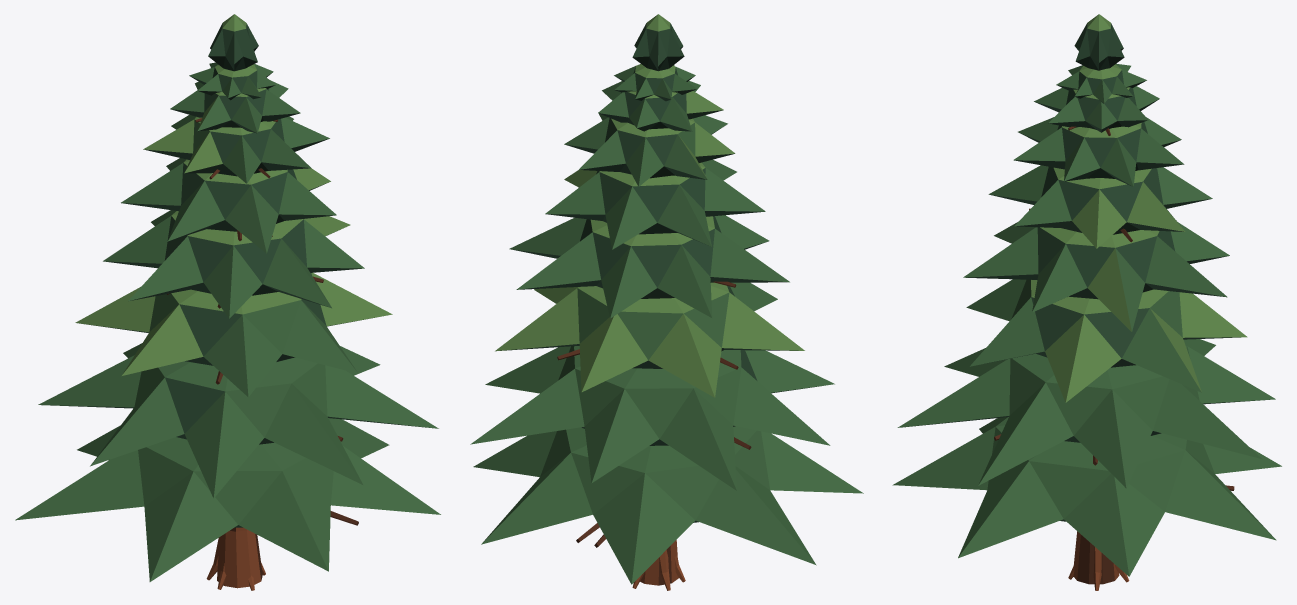
File: WH_PonderosaPine_C.glb
3 views of the same model, side by side, from view 1: azimuth 30°, elevation 25°; view 2: azimuth 150°, elevation 25°; view 3: azimuth 270°, elevation 25° (orthographic).
Visible parts, largest first — view 1: WH_PonderosaPine_C_LOD0; view 2: WH_PonderosaPine_C_LOD0; view 3: WH_PonderosaPine_C_LOD0.
Part boxes in pixels (bbox=[...]): WH_PonderosaPine_C_LOD0: bbox=[15, 14, 440, 590]; WH_PonderosaPine_C_LOD0: bbox=[470, 14, 863, 590]; WH_PonderosaPine_C_LOD0: bbox=[892, 14, 1281, 590].
Size of the model in its own units: 3.81 by 5.74 by 3.6.
